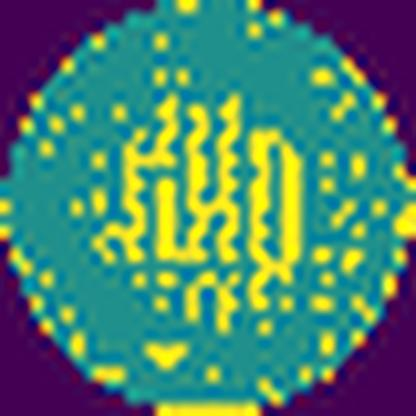Center: (100, 92, 304, 333)
